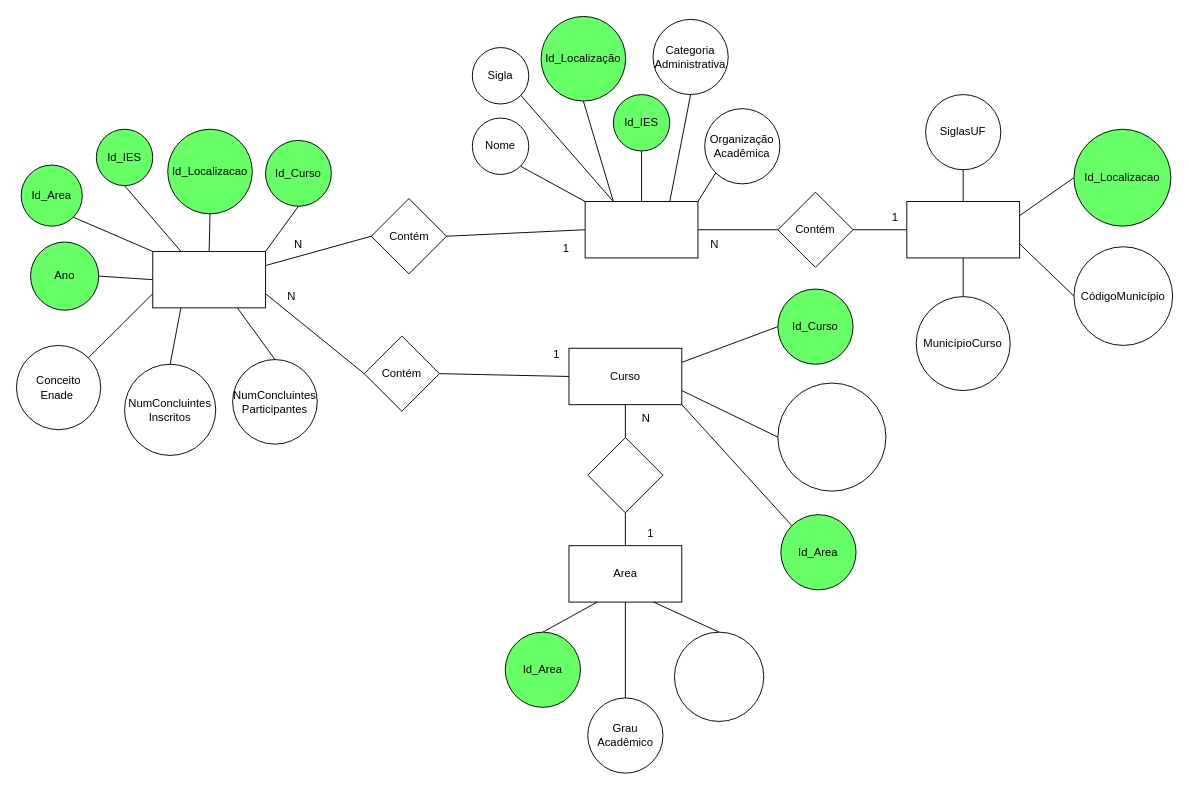
The diagram is 1189 pixels wide and 790 high, and some of its shapes have lost their labels. Each missing label, with the centre of its shape:
AreaAvaliação: [719,676]
Enade: [209,279]
IES: [641,229]
Inserido: [625,475]
Localização IES: [963,229]
ModalidadeEnsino: [831,436]
